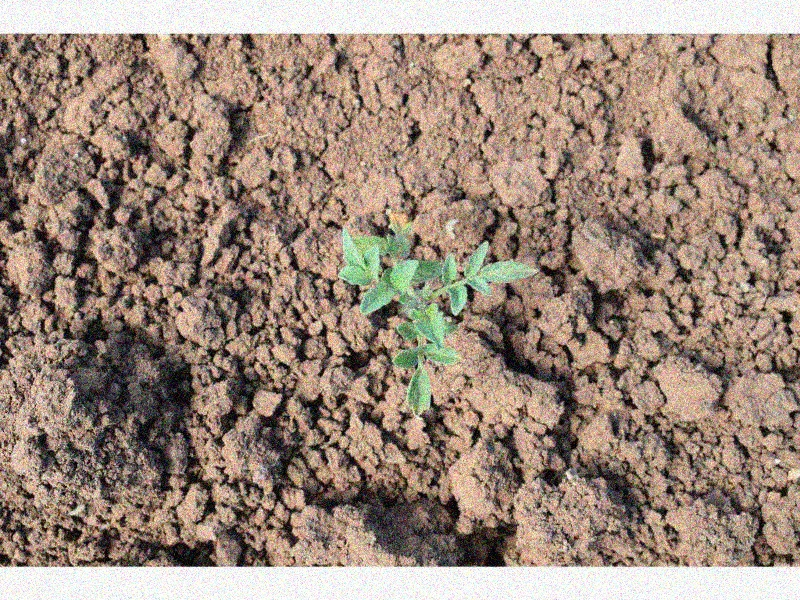tomato: (339, 225, 543, 416)
